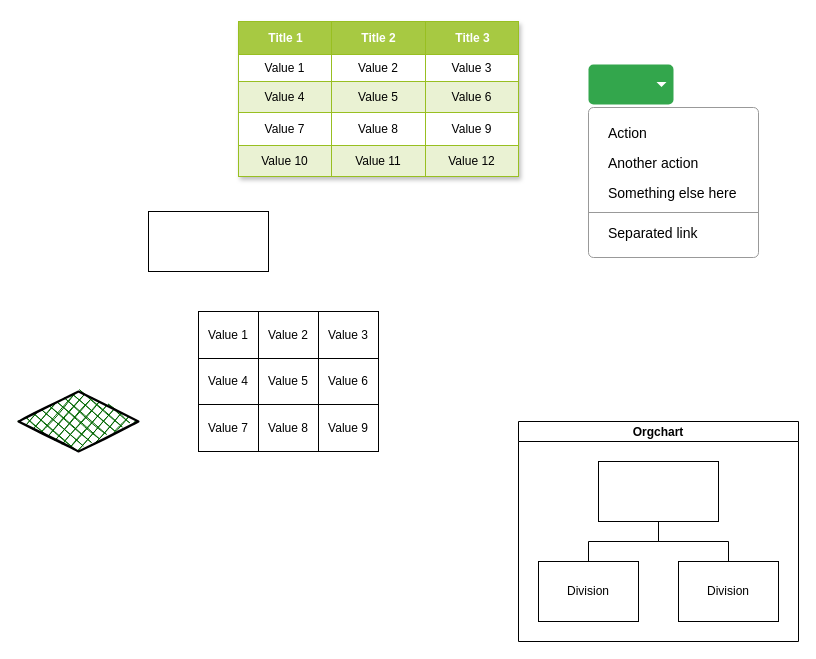
Image size: 816x659. Some labels were removed from this diagram. Each missing label, with the centre of its shape:
"Organization" belongs at pixel 658 491.
"Success" belongs at pixel 630 84.
